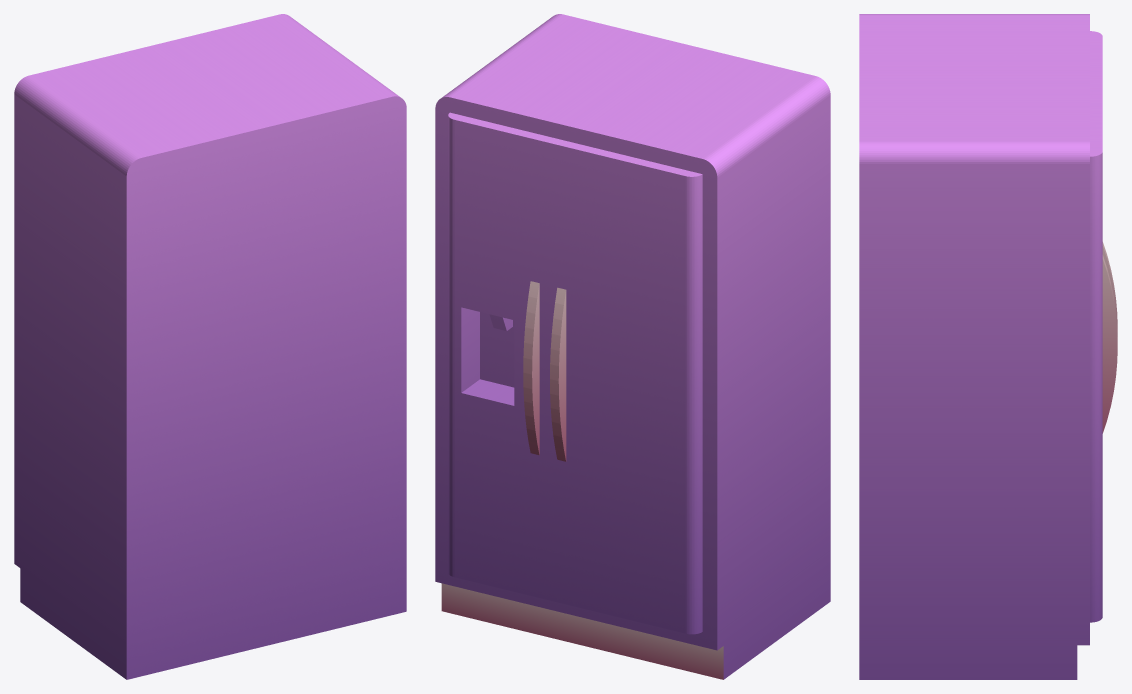
Rendered from fridge.fbx.
3 views of the same model, side by side, from view 1: azimuth 30°, elevation 25°; view 2: azimuth 150°, elevation 25°; view 3: azimuth 270°, elevation 25° (orthographic). The views are drawn at different scales.
Parts seen in each view (by area): view 1: kitchenFridgeLarge1; view 2: kitchenFridgeLarge1; view 3: kitchenFridgeLarge1.
Boxes of the visible parts, <box> form: kitchenFridgeLarge1: <box>14,14,406,679</box>; kitchenFridgeLarge1: <box>435,14,830,679</box>; kitchenFridgeLarge1: <box>859,14,1117,679</box>.
Bounding box in the file's own units: 121 × 214 × 94.23.
